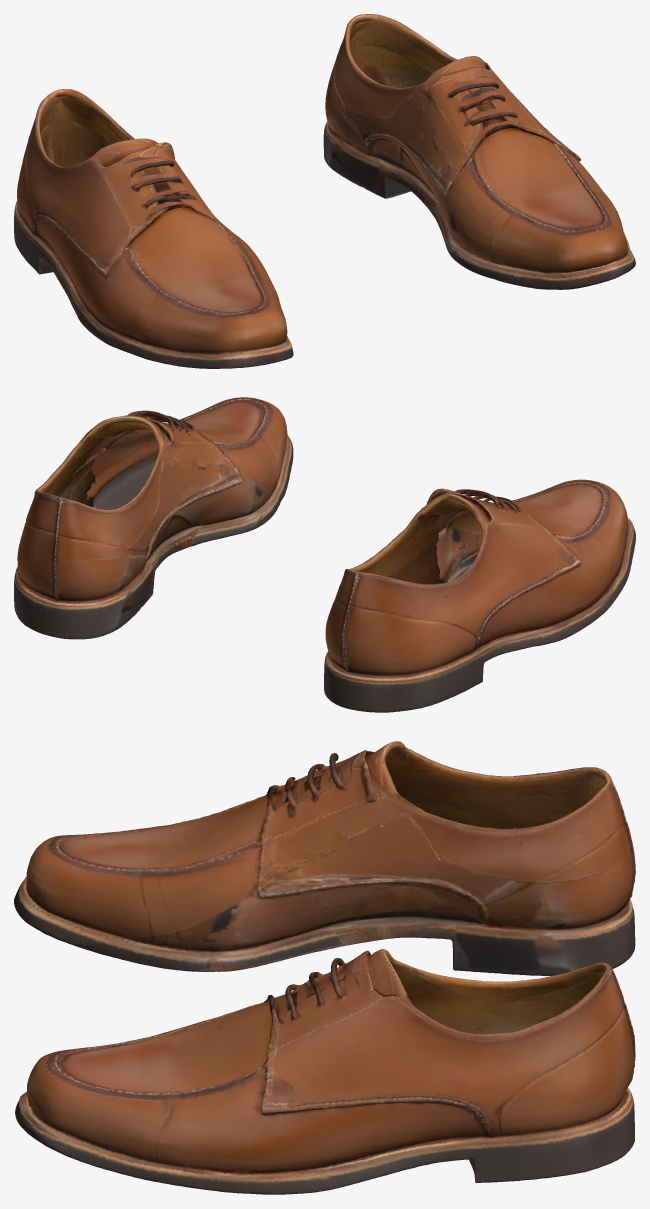
File: compressed-sepatu.glb
The picture shows the model from 3 angles, top to bottom: view 1: azimuth 30°, elevation 25°; view 2: azimuth 150°, elevation 25°; view 3: azimuth 270°, elevation 25°; orthographic projection. The views are drawn at different scales.
Size of the model in its own units: 2 by 0.5696 by 1.65.
Materials: 1 (1 with a texture image).
